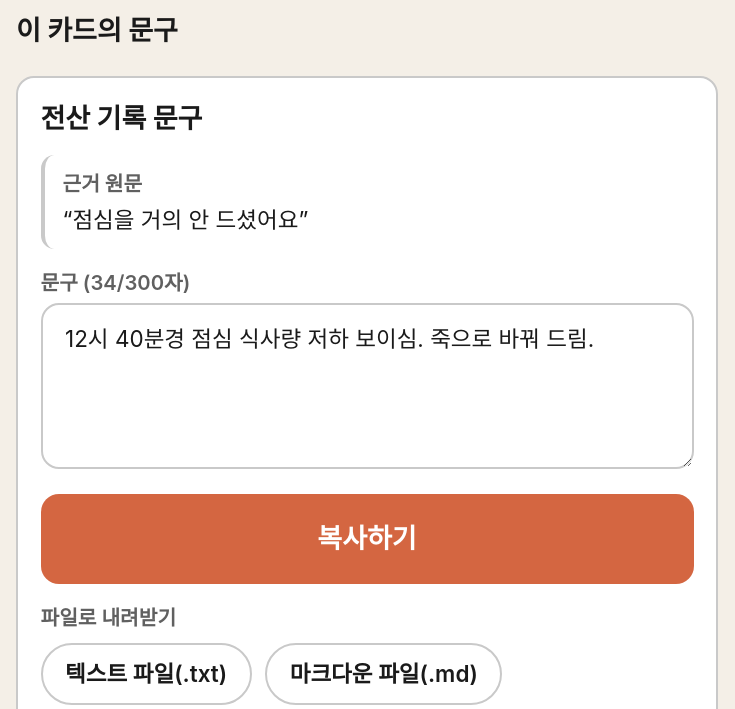
Scenario: 기록·보호자 전달 문구 화면 (n36~n40) › 문구를 고치면 저장할 수 있고, 저장 전에는 복사할 수 없다
(page scrolled)
Replace the text in the text box with "고친 문구": {"x": 367, "y": 386} [40,303,694,469]
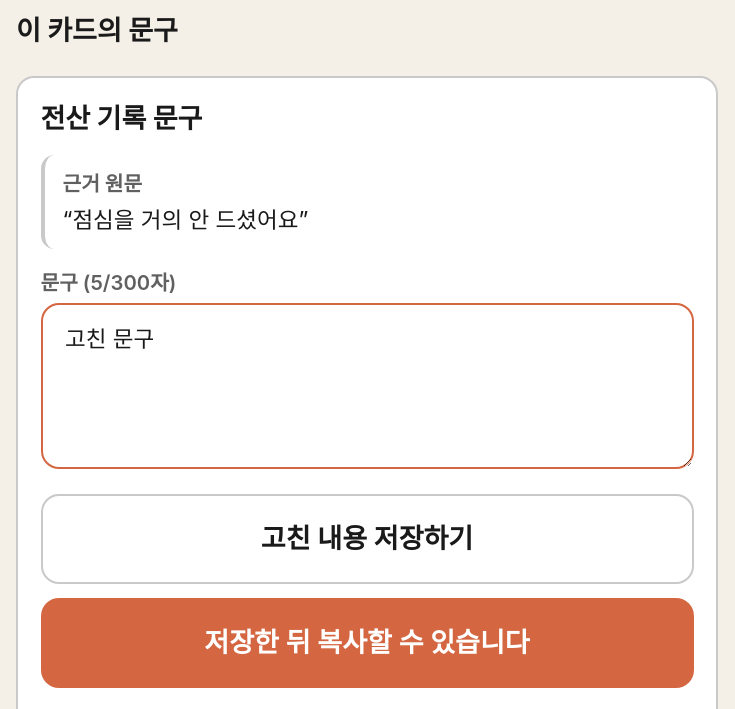
Expected: the button "고친 내용 저장하기" is shown
Expected: the button "저장한 뒤 복사할 수 있습니다" is shown, [40,598,694,688]
Click the button "고친 내용 저장하기": {"x": 367, "y": 539} [40,494,694,584]
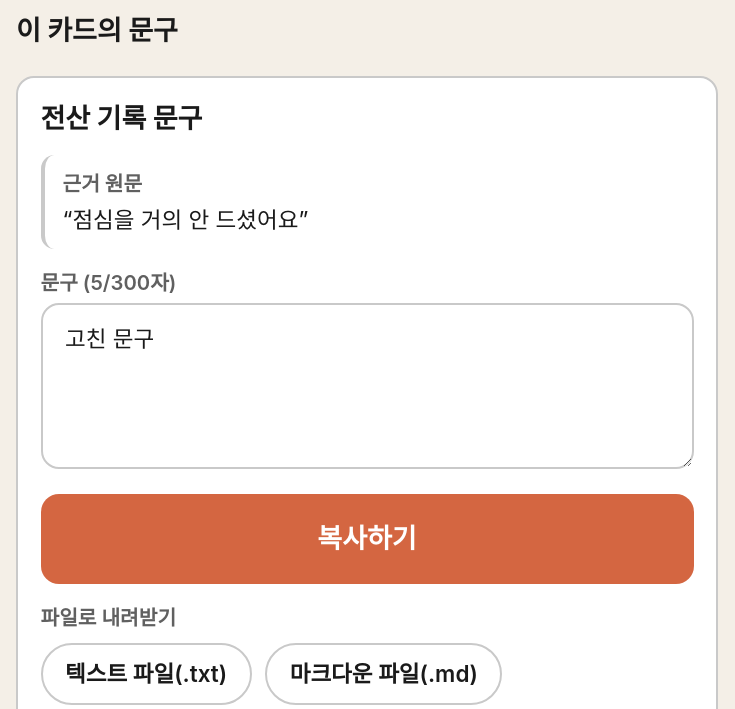
Expected: the button "복사하기" is shown, [40,494,694,584]
